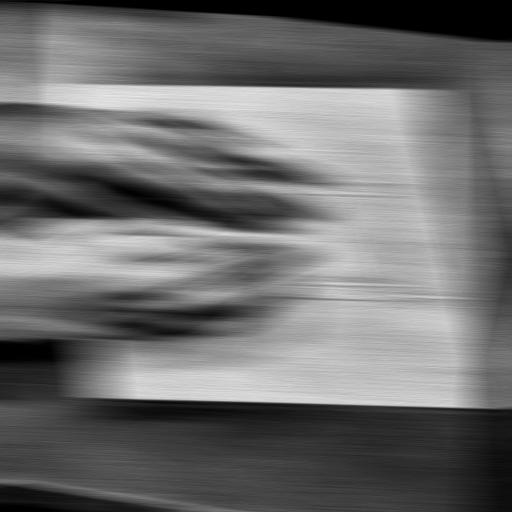bottom_left: (84, 395, 111, 399)
bottom_right: (42, 81, 73, 89)
mobile: (82, 173, 478, 305)
top_right: (413, 87, 440, 91)
